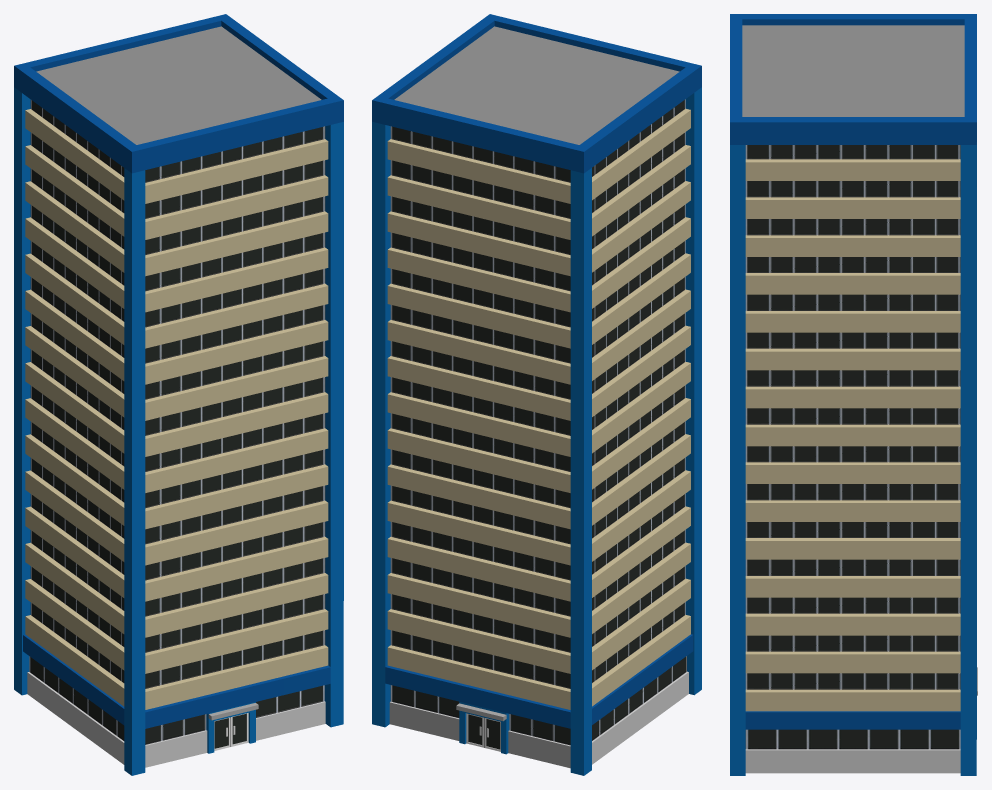
3 views of the same model, side by side, from view 1: azimuth 30°, elevation 25°; view 2: azimuth 150°, elevation 25°; view 3: azimuth 270°, elevation 25° (orthographic). The views are drawn at different scales.
Parts seen in each view (by area): view 1: BC-13; view 2: BC-13; view 3: BC-13.
Boxes of the visible parts, bbox=[...] form: BC-13: bbox=[14, 14, 343, 775]; BC-13: bbox=[372, 14, 701, 775]; BC-13: bbox=[730, 14, 977, 775].
Bounding box in the file's own units: 18.41 × 51.79 × 17.79.
